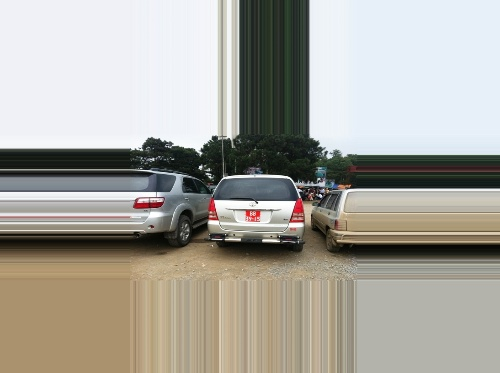plate: (245, 209, 264, 223)
